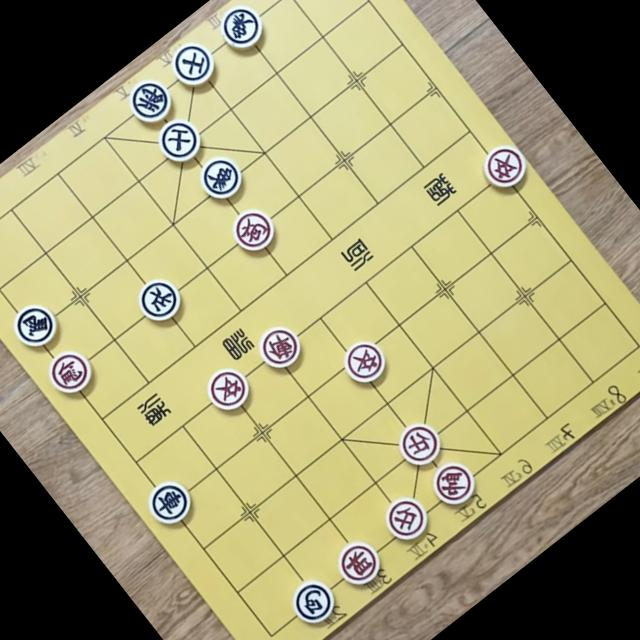black-advisor: (162, 34, 225, 96), (153, 114, 210, 170)
black-cannon: (285, 574, 341, 630)
black-chariot: (139, 474, 199, 534)
black-elephant: (210, 0, 268, 57), (192, 150, 248, 206)
black-general: (122, 74, 180, 132)
black-horse: (6, 298, 64, 358)
black-soldier: (130, 272, 188, 330)
intersection: (75, 108, 137, 170), (66, 188, 124, 246), (17, 223, 75, 281), (506, 190, 564, 248), (32, 147, 90, 204), (316, 132, 373, 188), (497, 266, 554, 322), (328, 53, 384, 109), (233, 405, 289, 461), (283, 88, 338, 143), (54, 272, 108, 328), (304, 209, 359, 263), (406, 338, 460, 393), (222, 483, 276, 538), (148, 198, 202, 252), (406, 63, 460, 117), (90, 312, 144, 366), (452, 302, 506, 356), (348, 452, 402, 506), (281, 369, 334, 424), (112, 154, 165, 207), (364, 99, 418, 151), (273, 169, 325, 222), (240, 126, 292, 178), (166, 316, 218, 368), (384, 218, 436, 270), (260, 529, 312, 580), (298, 11, 349, 62), (253, 51, 304, 102), (305, 492, 356, 543), (206, 82, 256, 134), (212, 282, 262, 333), (296, 292, 346, 343), (191, 443, 241, 494), (546, 234, 595, 286), (376, 20, 426, 70), (443, 106, 493, 156), (444, 382, 494, 432), (184, 244, 233, 294), (120, 353, 170, 402), (477, 424, 526, 473), (0, 182, 42, 238), (160, 402, 208, 451), (114, 438, 162, 487), (316, 413, 364, 462), (420, 264, 468, 312), (535, 311, 582, 360), (491, 347, 538, 396), (467, 229, 514, 277), (399, 140, 446, 187), (355, 178, 402, 225), (378, 300, 424, 348), (262, 249, 308, 296), (80, 391, 126, 438), (435, 190, 481, 236), (366, 380, 412, 426), (522, 394, 568, 439), (274, 451, 319, 496), (581, 281, 625, 325), (106, 237, 150, 280), (570, 358, 614, 401), (182, 523, 224, 568), (344, 262, 386, 306), (216, 570, 258, 614), (341, 0, 397, 30), (248, 607, 294, 640), (262, 0, 316, 22), (0, 263, 24, 312), (616, 326, 640, 364)
red-advisor: (389, 413, 448, 473), (378, 489, 436, 546)
red-cannon: (223, 201, 283, 261)
red-chariot: (251, 318, 310, 377)
red-elephant: (330, 534, 389, 592)
red-general: (425, 455, 482, 512)
red-horse: (40, 342, 102, 404)
red-soldier: (197, 359, 258, 421), (333, 332, 394, 393), (477, 140, 532, 196)
